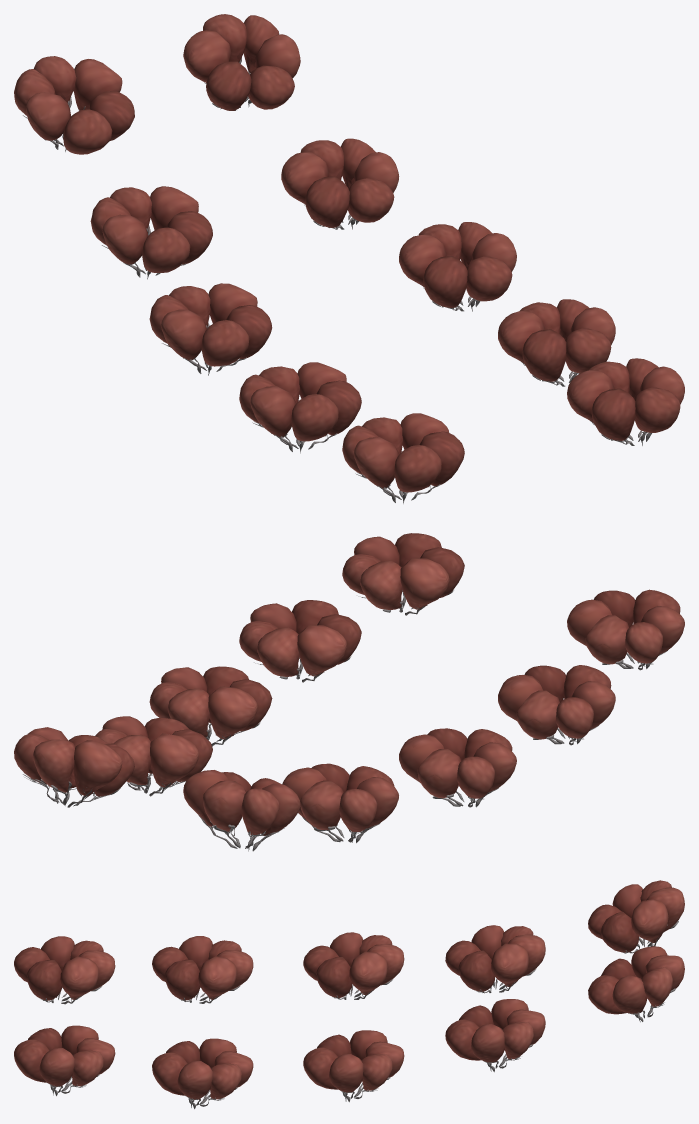
Rendered from Mammary Glands.fbx.
3 views of the same model, one above another, from view 1: azimuth 30°, elevation 25°; view 2: azimuth 150°, elevation 25°; view 3: azimuth 270°, elevation 25° (orthographic). The views are drawn at different scales.
Visible parts, largest first — view 1: Mammary Glands, Mammary Glands low; view 2: Mammary Glands, Mammary Glands low; view 3: Mammary Glands, Mammary Glands low.
Boxes of the visible parts, box(x1,y1,x2,y2) form: Mammary Glands: box(14, 14, 684, 503); Mammary Glands low: box(15, 16, 684, 502); Mammary Glands: box(14, 533, 684, 851); Mammary Glands low: box(16, 534, 681, 849); Mammary Glands: box(14, 880, 684, 1109); Mammary Glands low: box(14, 883, 683, 1106).
Bounding box in the file's own units: 10.8 × 4.74 × 21.88.
1 material, 1 textured.
